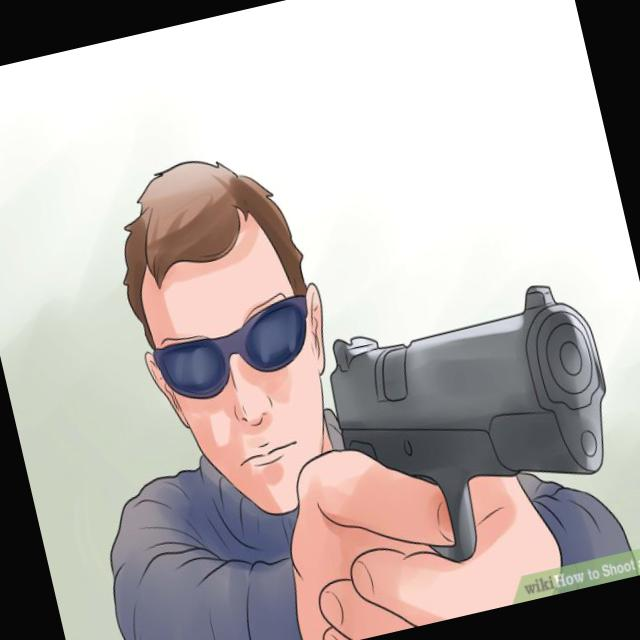handgun: (306, 274, 640, 584)
